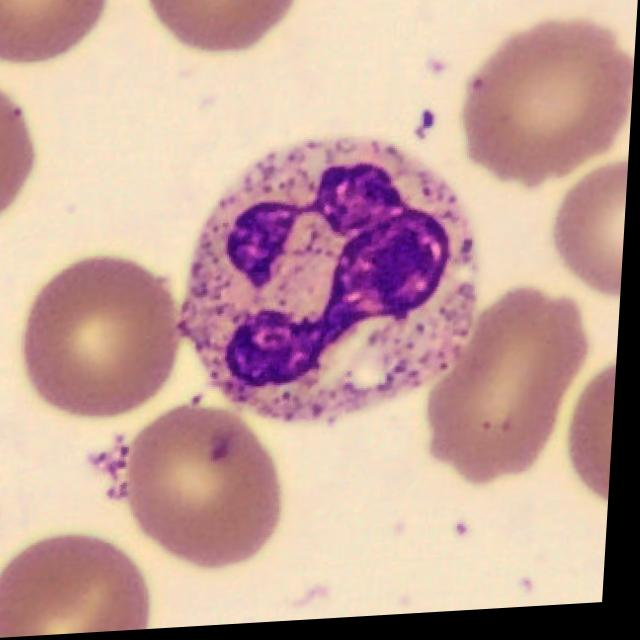Neutrofilo segmentado: (181, 140, 484, 430)
